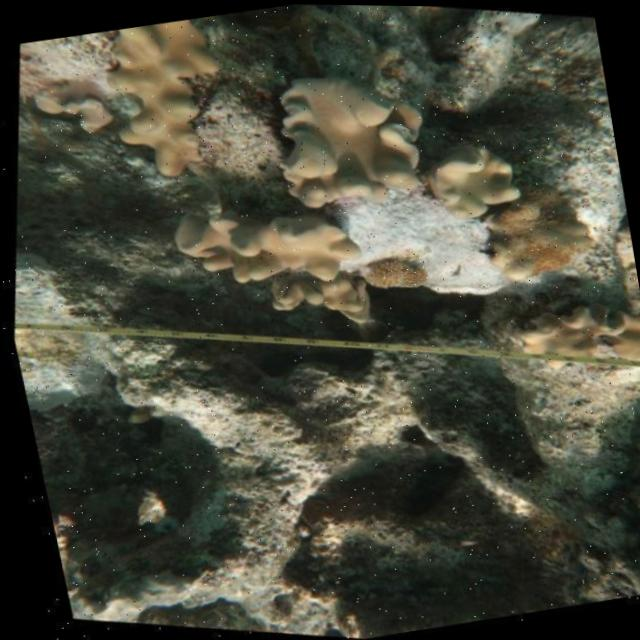Healthy Coral: (238, 26, 449, 241), (81, 10, 262, 204), (151, 173, 376, 326), (457, 161, 618, 307), (498, 272, 640, 395), (408, 123, 536, 239), (252, 253, 385, 349), (15, 62, 121, 152), (352, 237, 440, 304)
